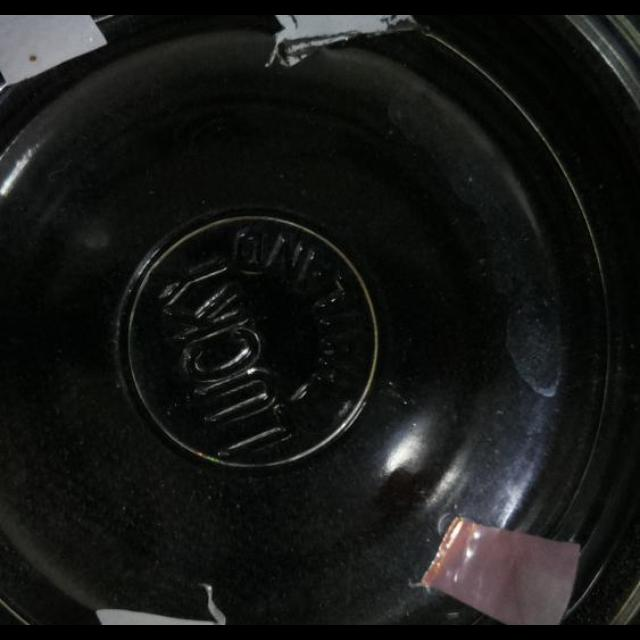Fibre: (264, 38, 286, 66)
Fragment: (423, 516, 573, 624), (265, 17, 421, 68), (0, 15, 110, 85), (99, 605, 225, 625)
